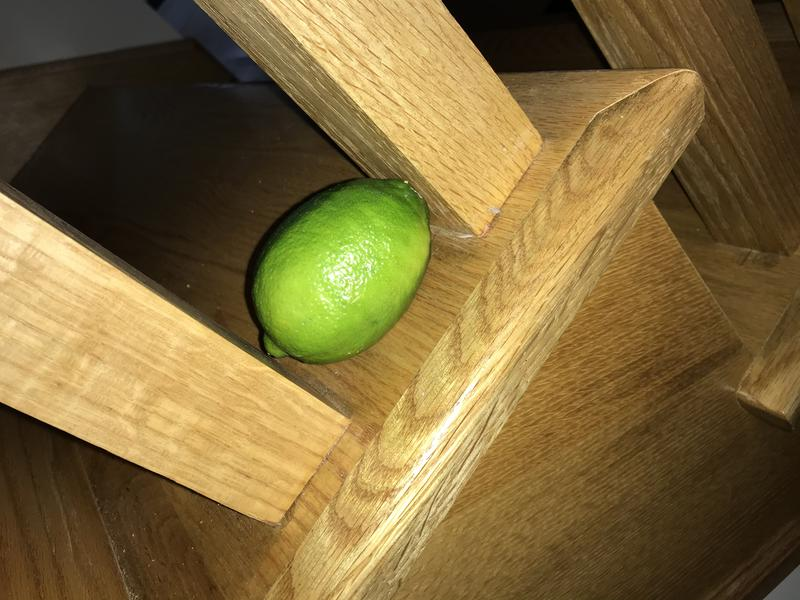lime: (232, 162, 442, 369)
